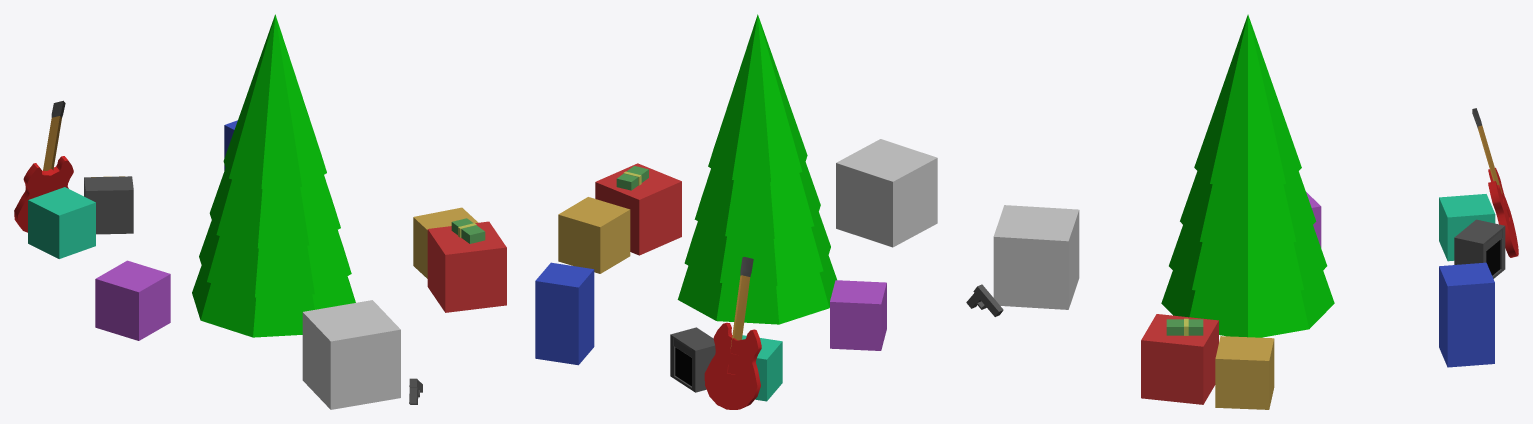
The picture shows the model from 3 angles, left to right: view 1: azimuth 30°, elevation 25°; view 2: azimuth 150°, elevation 25°; view 3: azimuth 270°, elevation 25°; orthographic projection. The views are drawn at different scales.
Parts seen in each view (by area): view 1: Cone_3, Cube_5, Cube, Cube_4, Cube_1, Disc, Cube_9, Cube_3, Cube_7; view 2: Cone_3, Cube_5, Cube_2, Disc, Cube, Cube_3, Cube_4, Cube_9, Cube_1, Cube_7; view 3: Cone_3, Cube_5, Cube, Cube_2, Cube_3, Cube_9, Cube_1, Disc, Cube_6, Cube_7.
Boxes of the visible parts, x1,y1,x2,y2 form: Cone_3: (192,14,355,337); Cube_5: (302,300,400,409); Cube: (427,221,506,312); Cube_4: (95,260,170,340); Cube_1: (28,187,95,258); Disc: (14,100,73,232); Cube_9: (84,176,133,234); Cube_3: (413,207,478,278); Cube_7: (451,218,485,243); Cone_3: (677,14,836,324); Cube_5: (836,139,937,247); Cube_2: (535,262,594,365); Disc: (704,257,761,409); Cube: (595,163,681,255); Cube_3: (558,197,630,273); Cube_4: (830,280,886,350); Cube_9: (670,327,715,392); Cube_1: (742,335,782,401); Cube_7: (616,166,648,190); Cone_3: (1161,14,1334,337); Cube_5: (993,205,1079,309); Cube: (1141,314,1218,404); Cube_2: (1439,262,1494,367); Cube_3: (1215,336,1274,409); Cube_9: (1454,219,1505,278); Cube_1: (1439,194,1495,261); Disc: (1472,108,1518,257); Cube_6: (966,284,1003,316); Cube_7: (1166,319,1203,335).
Bounding box in the file's own units: 5.4 × 4.38 × 7.33.
